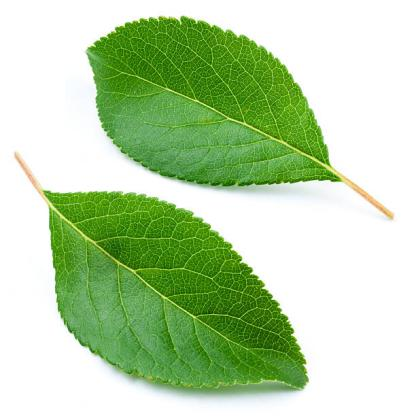apple leaf: (37, 184, 323, 397), (80, 11, 358, 190)
